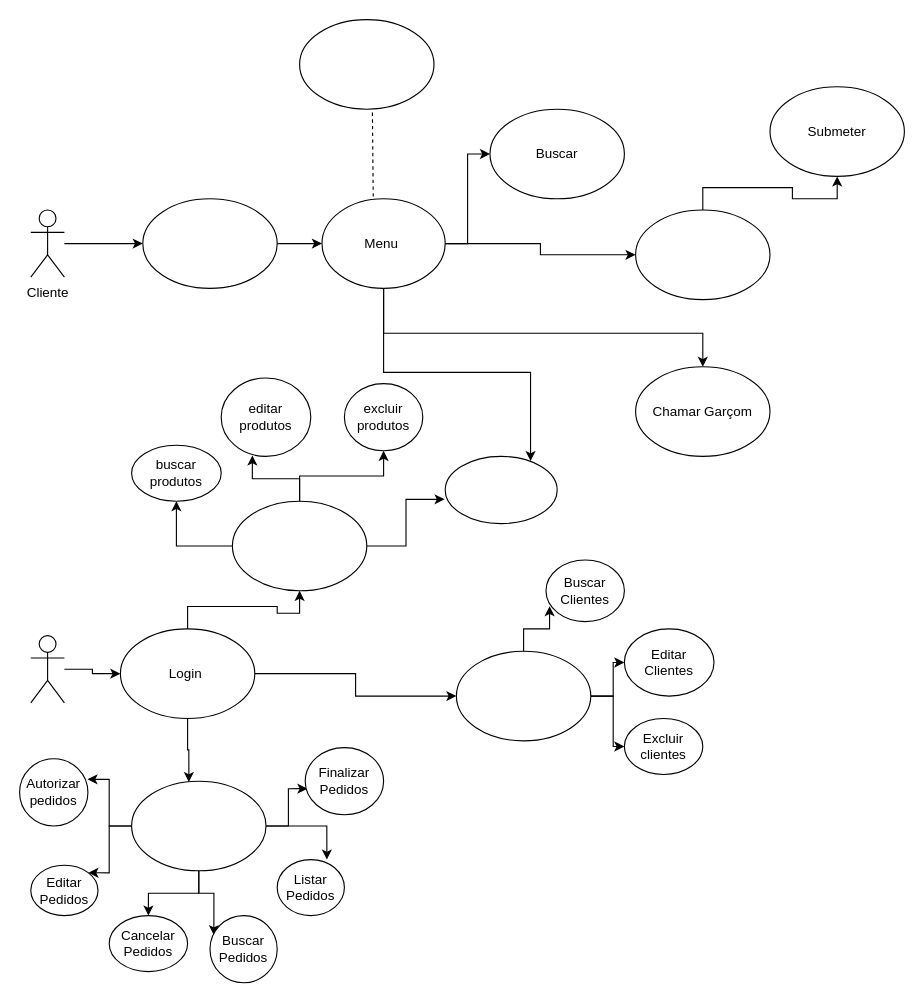
The diagram is 924 pixels wide and 1002 high, and some of its shapes have lost their labels. The box of each missing label's shape, as (x1, y1, x2, y2) in pixels:
Adicionar clientes: (455, 650, 591, 741)
Adicionar Pedidos: (130, 780, 266, 871)
Adicionar produtos: (231, 500, 367, 591)
ADM: (30, 634, 64, 703)
Identificação: (298, 18, 434, 109)
Leitura do QRCode: (142, 198, 277, 288)
ofertardescontos para produtos: (444, 455, 557, 524)
Selecionar: (634, 209, 770, 300)
